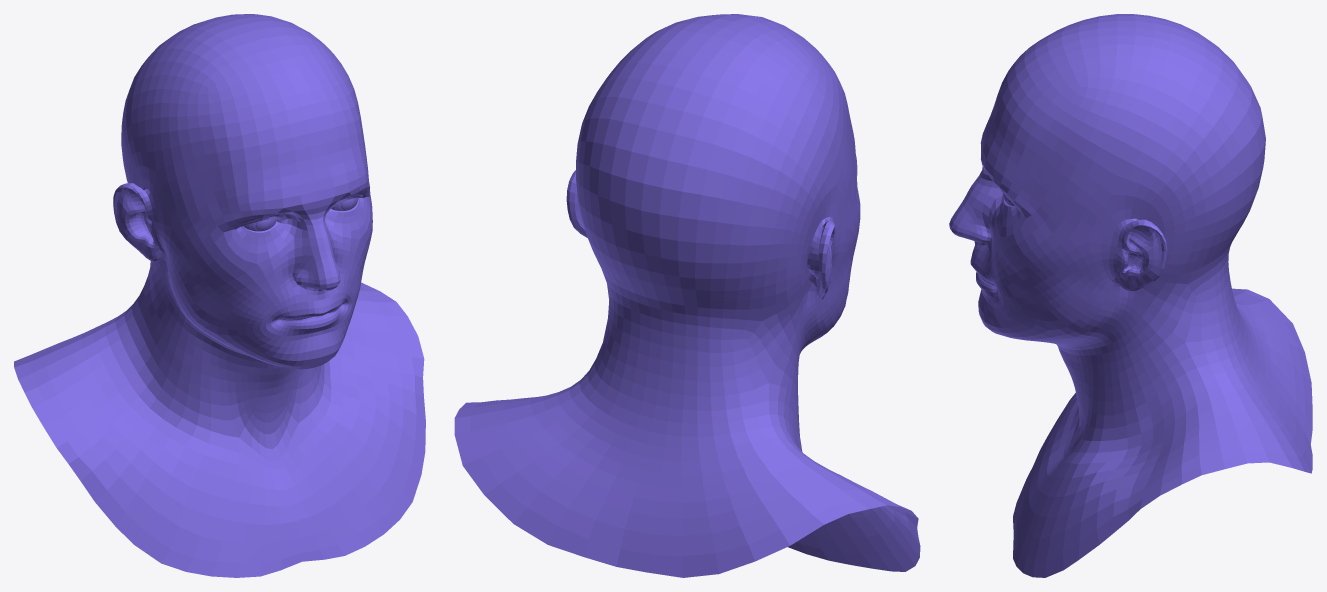
The model's file is cabeza.gltf.
The picture shows the model from 3 angles, left to right: view 1: azimuth 30°, elevation 25°; view 2: azimuth 150°, elevation 25°; view 3: azimuth 270°, elevation 25°; orthographic projection. The views are drawn at different scales.
Visible parts, largest first — view 1: Head_male; view 2: Head_male; view 3: Head_male.
Part boxes in pixels (x1=…): Head_male: x1=14, y1=14, x2=425, y2=577; Head_male: x1=454, y1=14, x2=920, y2=577; Head_male: x1=949, y1=14, x2=1312, y2=577.
Bounding box in the file's own units: 0.3071 × 0.389 × 0.2513.
